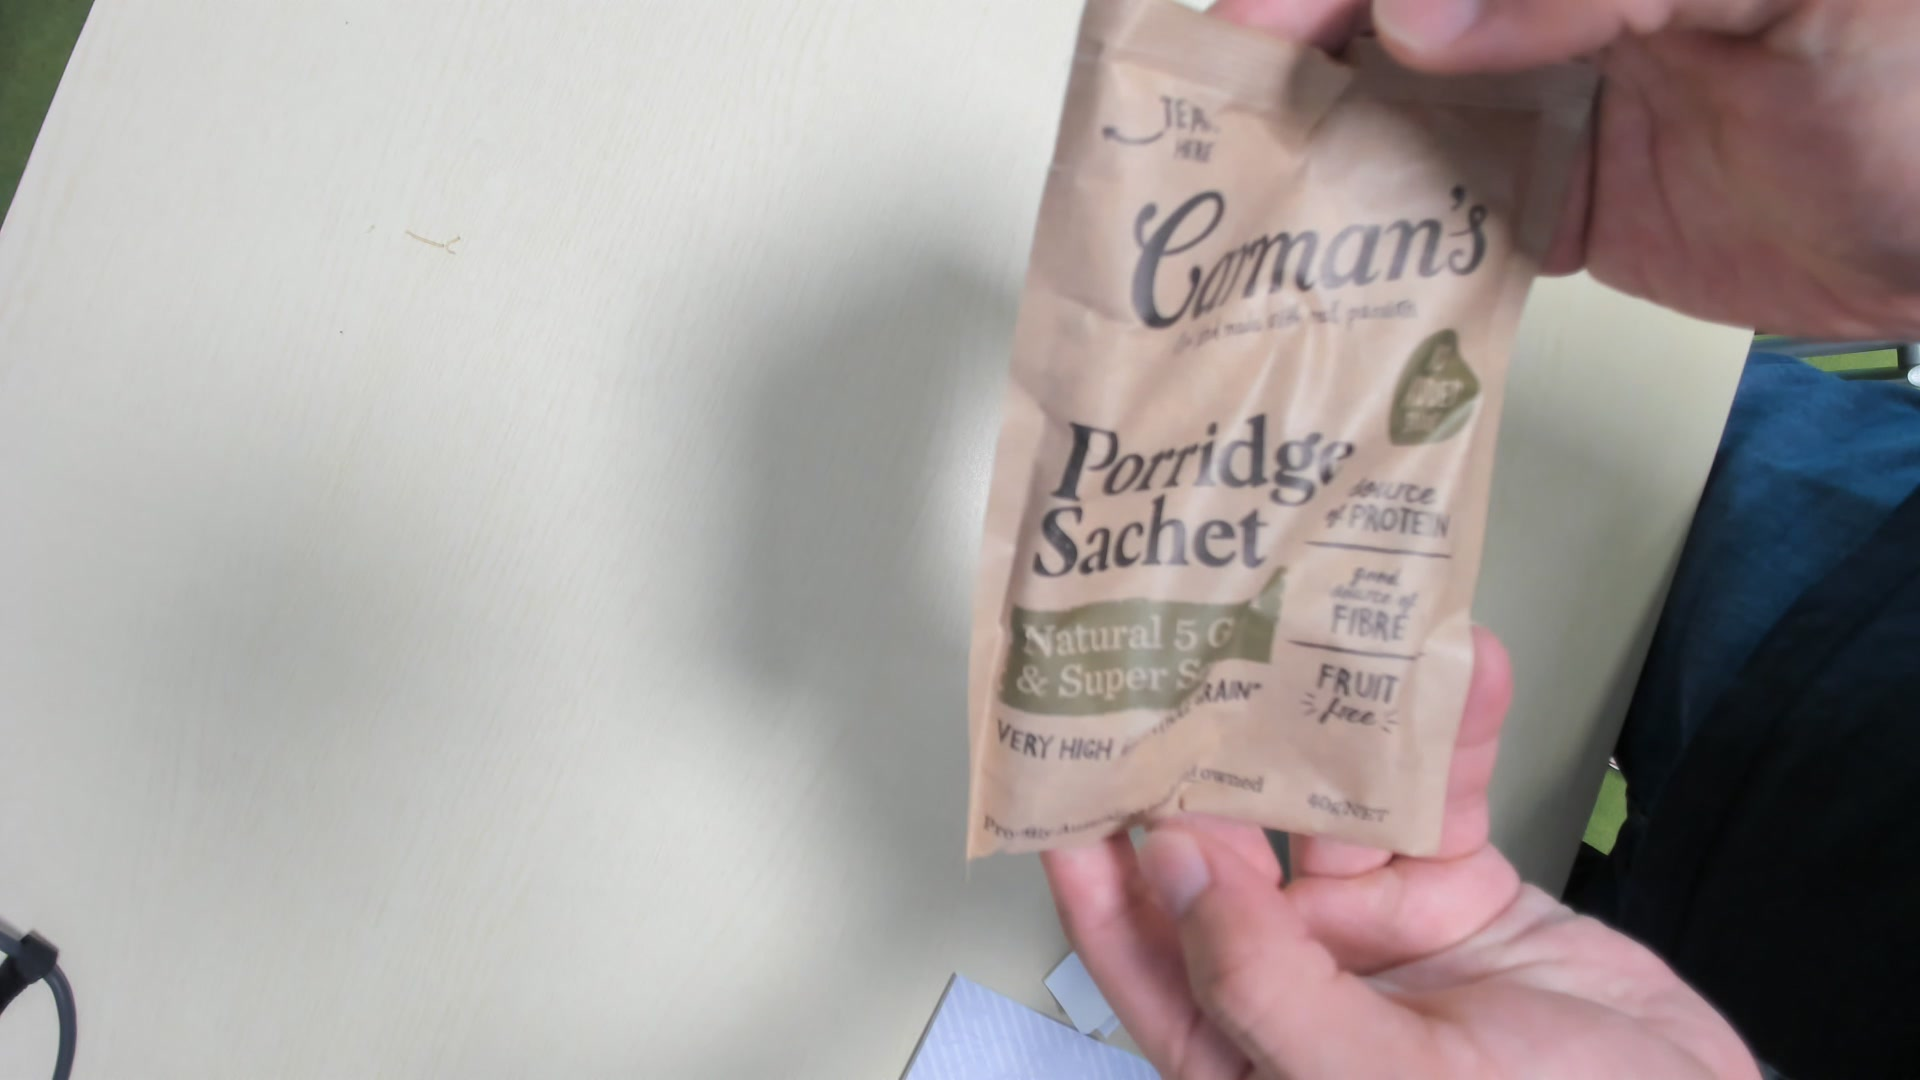InstantMeals_0-99g_NonHalal_NonHealthy: (971, 7, 1586, 866)
